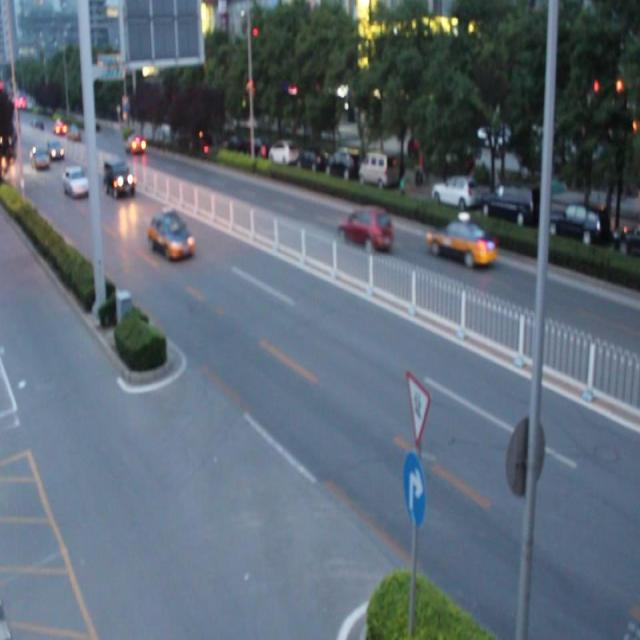car: (429, 223, 494, 263), (149, 214, 193, 258), (338, 212, 391, 248), (105, 163, 133, 191), (64, 169, 87, 195)
